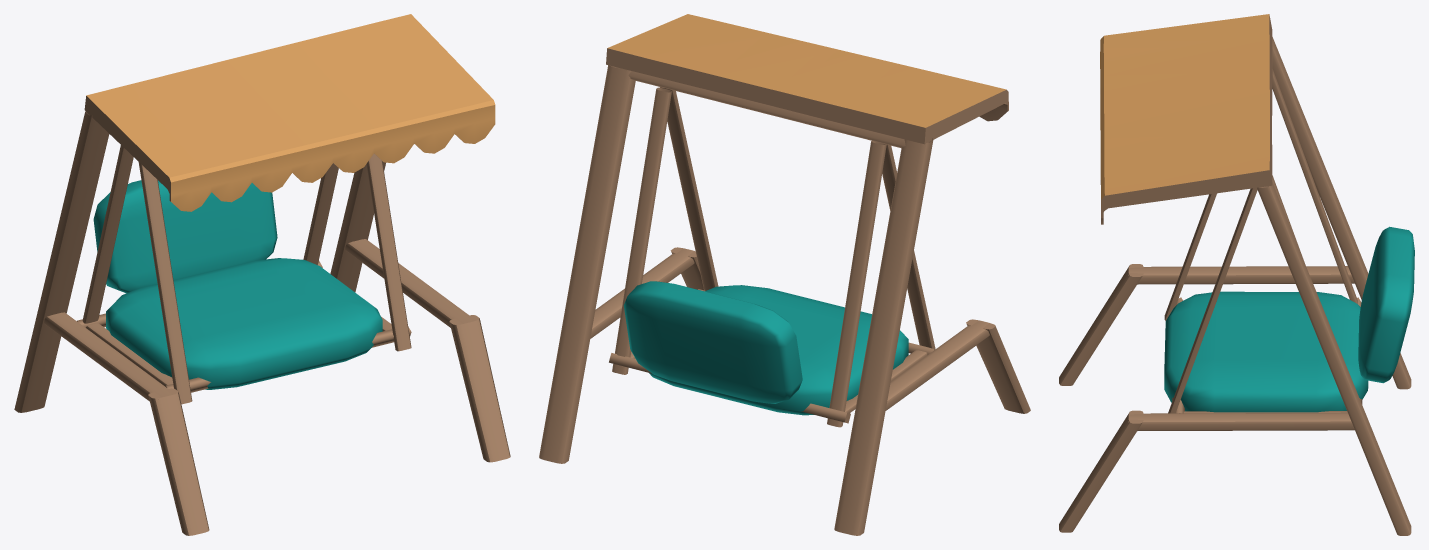
The model's file is SM_Swing.fbx.
3 views of the same model, side by side, from view 1: azimuth 30°, elevation 25°; view 2: azimuth 150°, elevation 25°; view 3: azimuth 270°, elevation 25° (orthographic).
Parts seen in each view (by area): view 1: SM_Swing; view 2: SM_Swing; view 3: SM_Swing.
Boxes of the visible parts, x1,y1,x2,y2 form: SM_Swing: [14, 14, 510, 535]; SM_Swing: [539, 14, 1030, 535]; SM_Swing: [1059, 14, 1414, 535].
Size of the model in its own units: 217 by 231 by 204.
